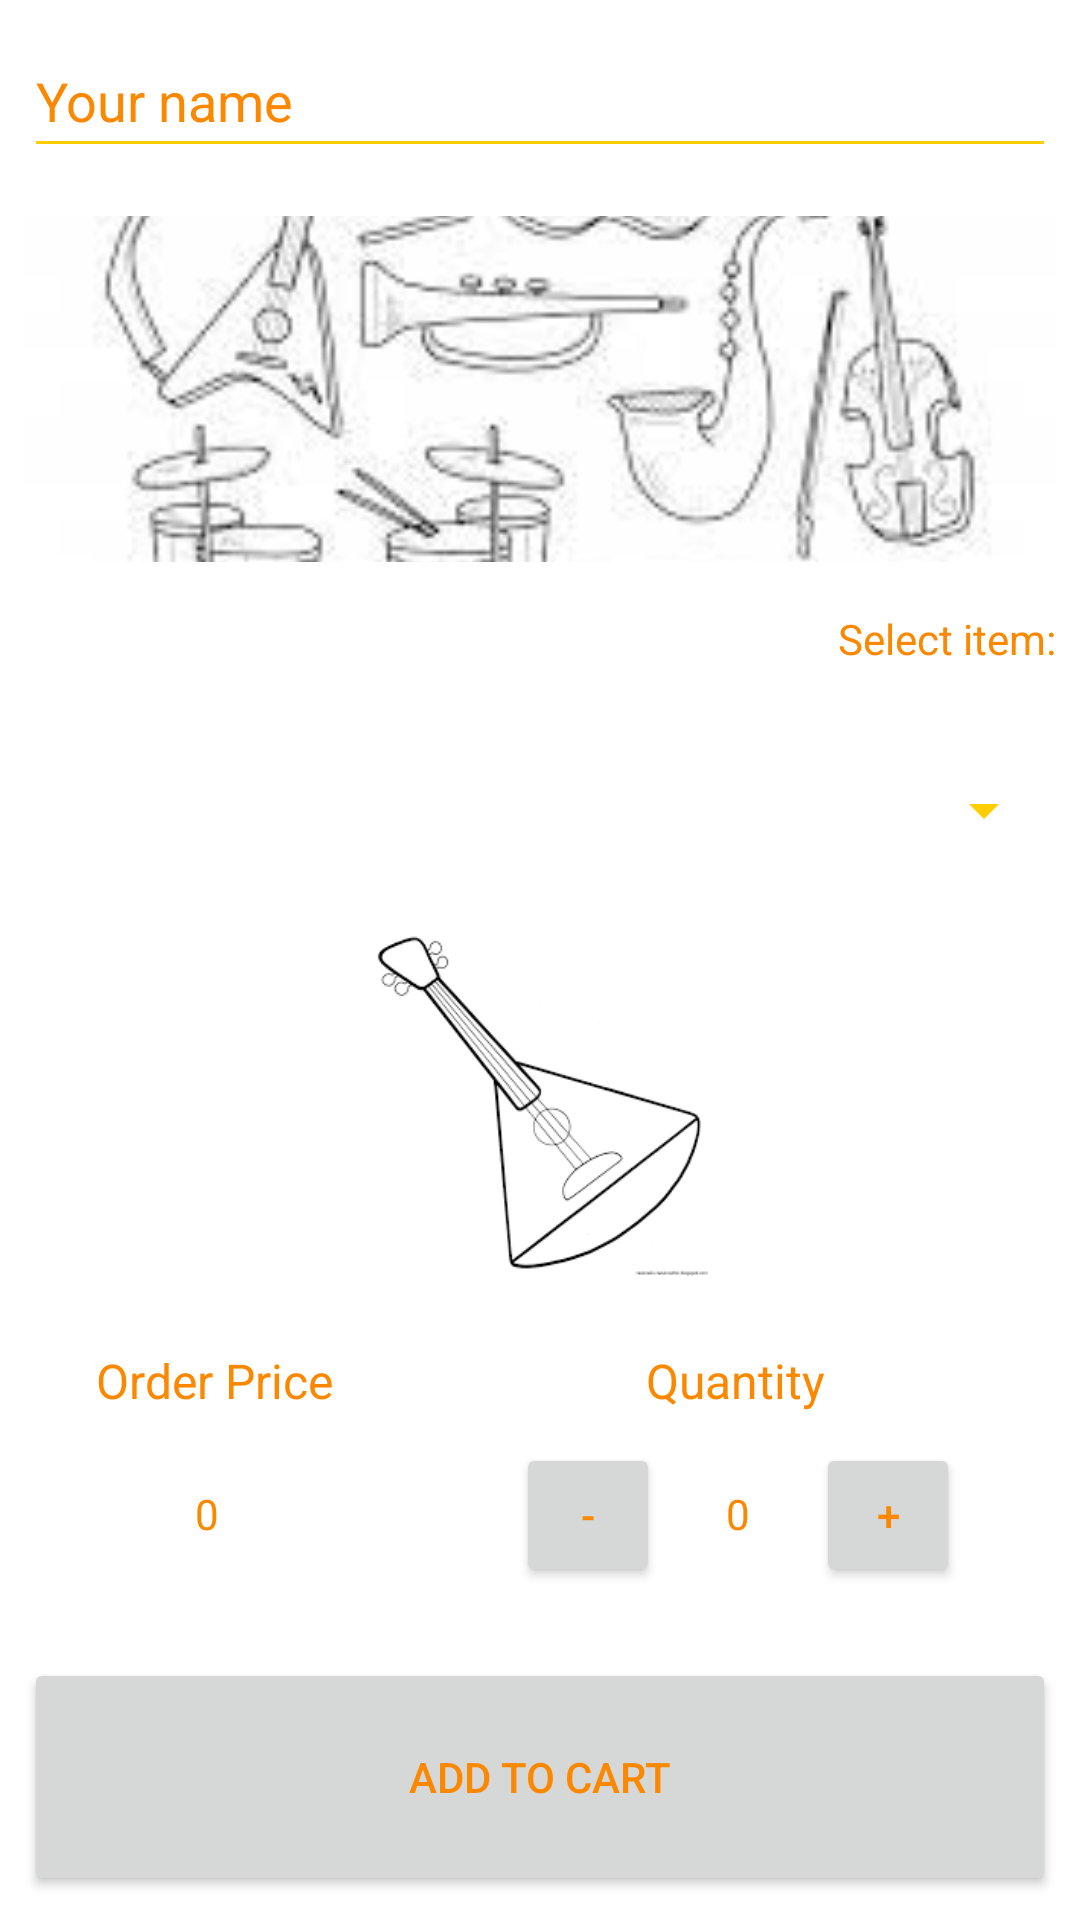

Icon click points for this 1080px x 1920px phone screenshot, format [x,y]:
balalaika: [543,1106]
